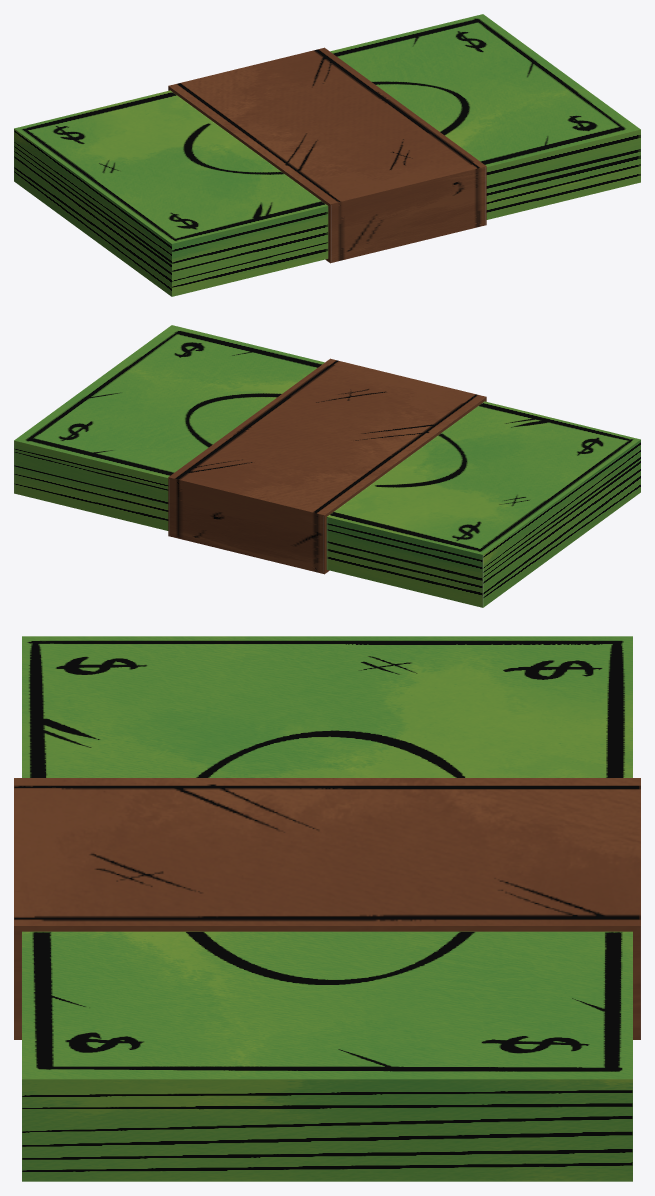
Rendered from Misc_Money.glb.
3 renders of one model, top to bottom at view 1: azimuth 30°, elevation 25°; view 2: azimuth 150°, elevation 25°; view 3: azimuth 270°, elevation 25°, orthographic. The views are drawn at different scales.
Visible parts, largest first — view 1: Cube; view 2: Cube; view 3: Cube.
Boxes of the visible parts, box(x1,y1,x2,y2) form: Cube: box(14, 14, 640, 296); Cube: box(14, 325, 640, 607); Cube: box(14, 636, 640, 1181).
Size of the model in its own units: 1.37 by 0.1649 by 0.8218.
Materials: 1 (1 with a texture image).
